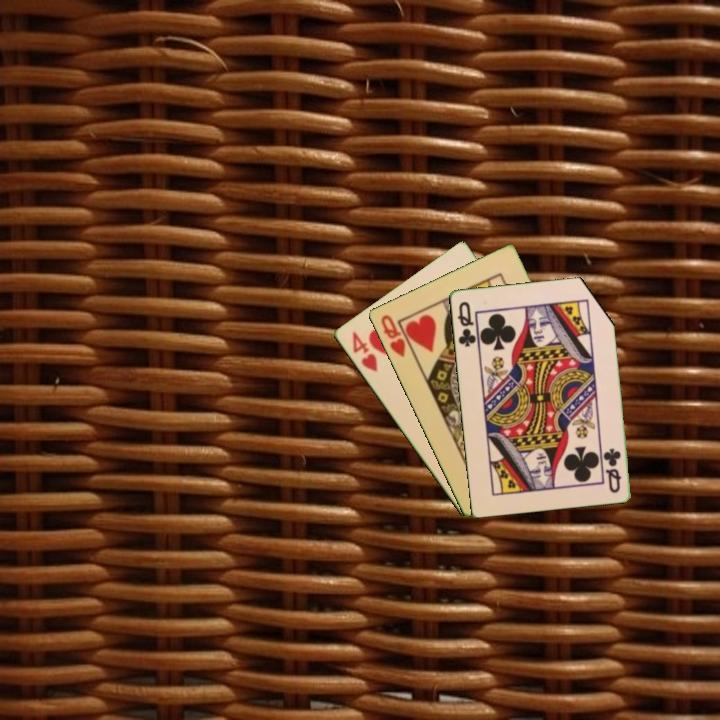4h: (348, 328, 381, 374)
Qc: (454, 298, 479, 349), (600, 444, 624, 495)
Qh: (377, 311, 416, 360)
